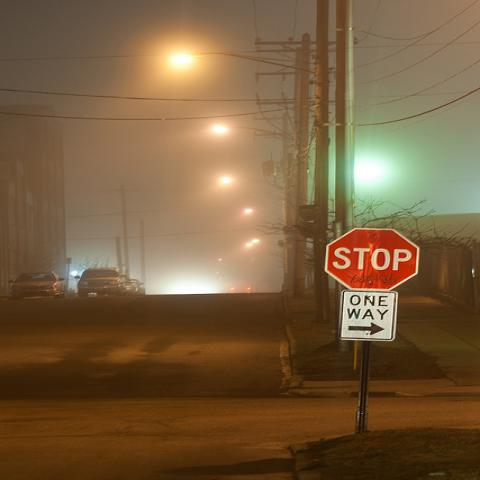car: (10, 270, 67, 299), (74, 267, 123, 298), (123, 274, 140, 295), (128, 279, 146, 295)
